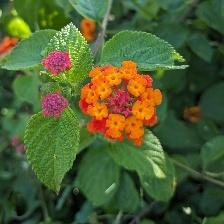common lanthana: (80, 58, 167, 141), (42, 52, 75, 75), (42, 93, 70, 119)
